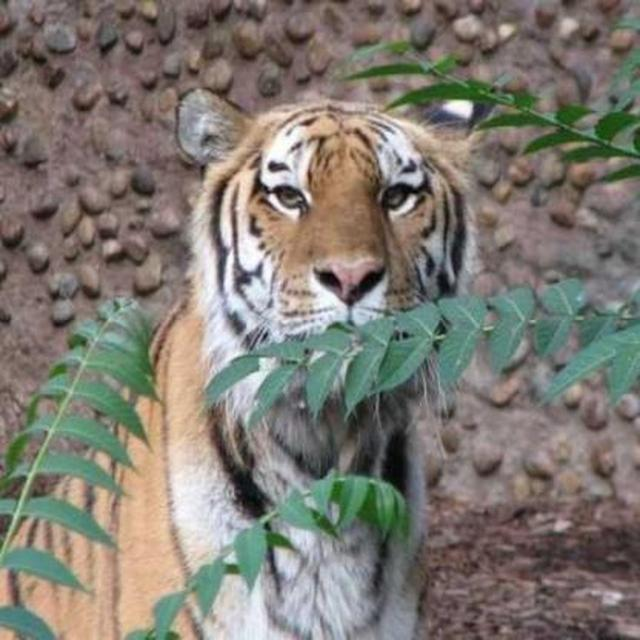tiger: (145, 84, 501, 639)
